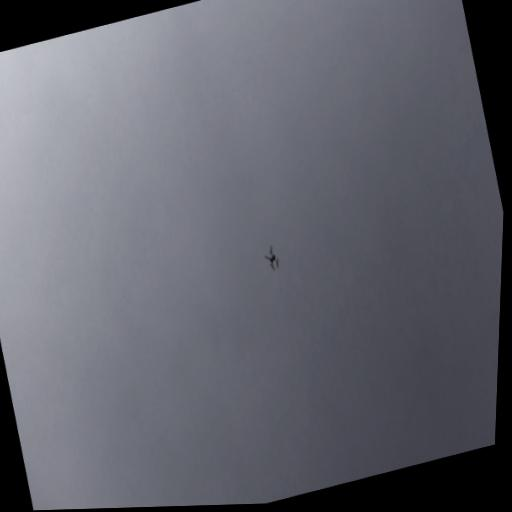drones: (260, 242, 284, 276)
